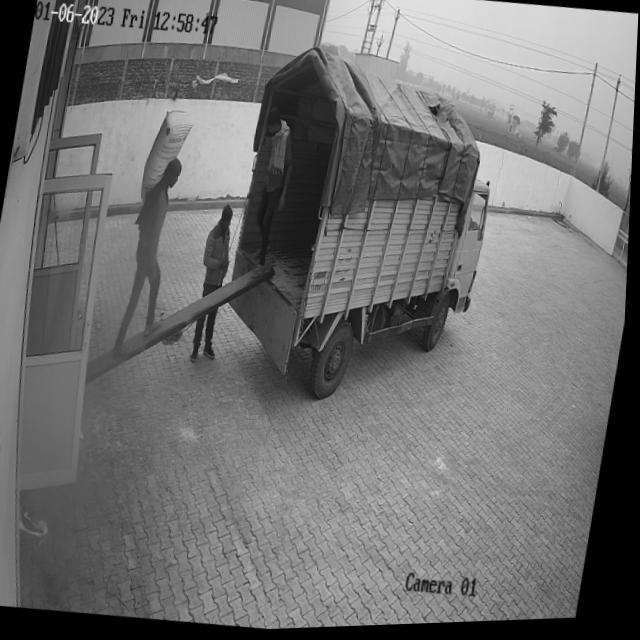sack: (139, 107, 198, 209)
